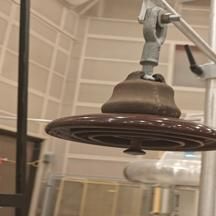insulator: (37, 55, 216, 170)
